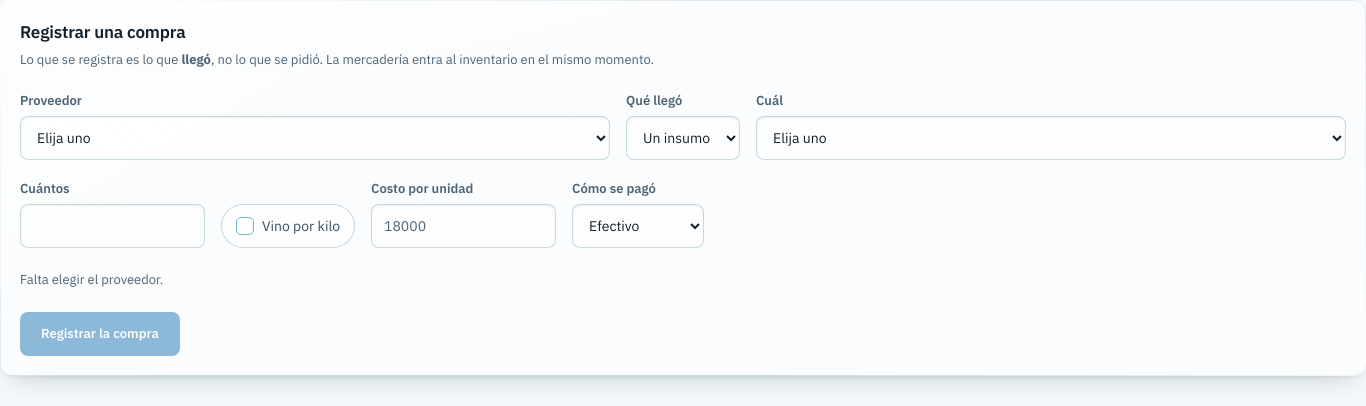
it: RegistrarCompra — una línea compra una sola cosa › cambiar qué se compró destilda los kilos
Click the checkbox labelled "Vino por kilo" at (288,226), box [221,204,355,248]
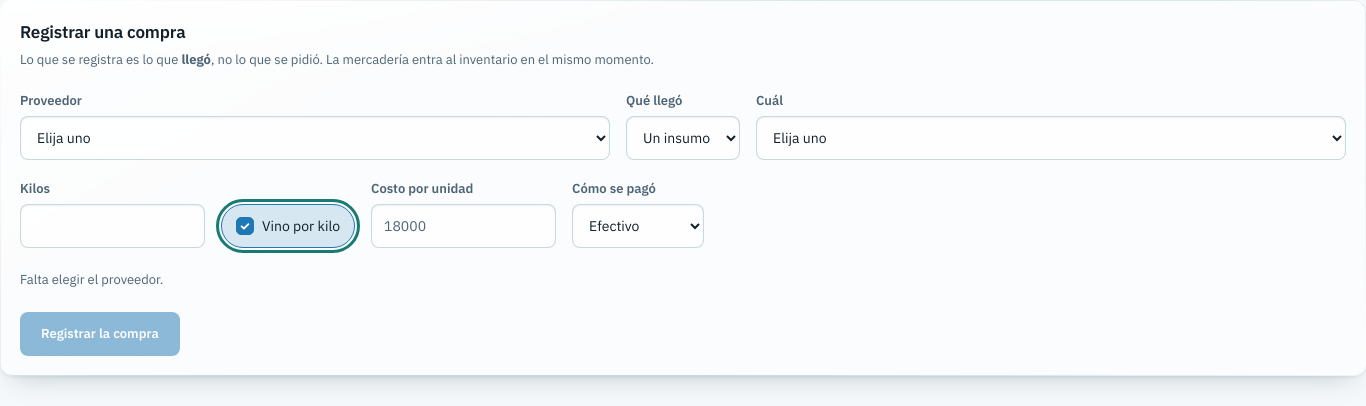
Select "Bases" in the dropdown labelled "Qué llegó" at (683,138), box [626,116,740,160]
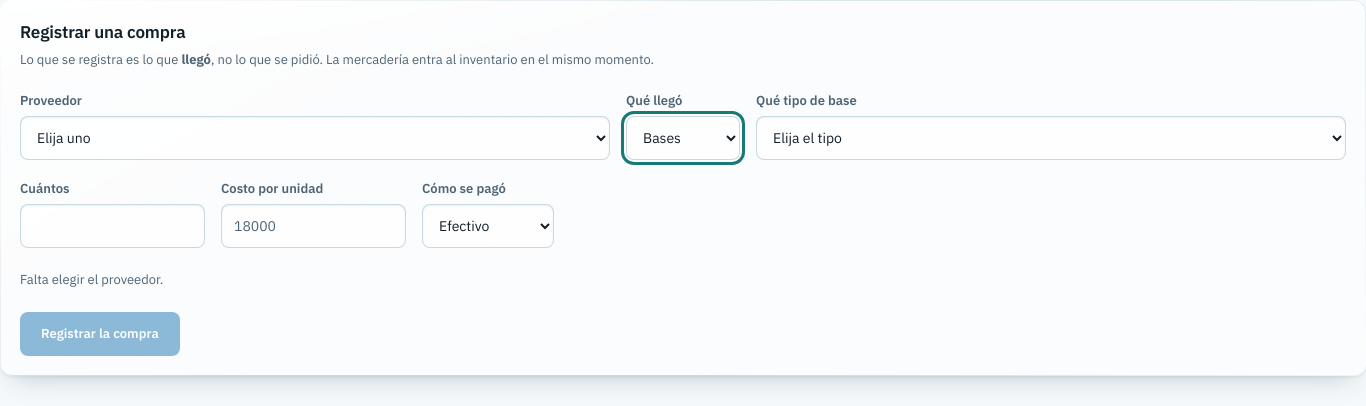
Select "Un insumo" in the dropdown labelled "Qué llegó" at (683,138), box [626,116,740,160]
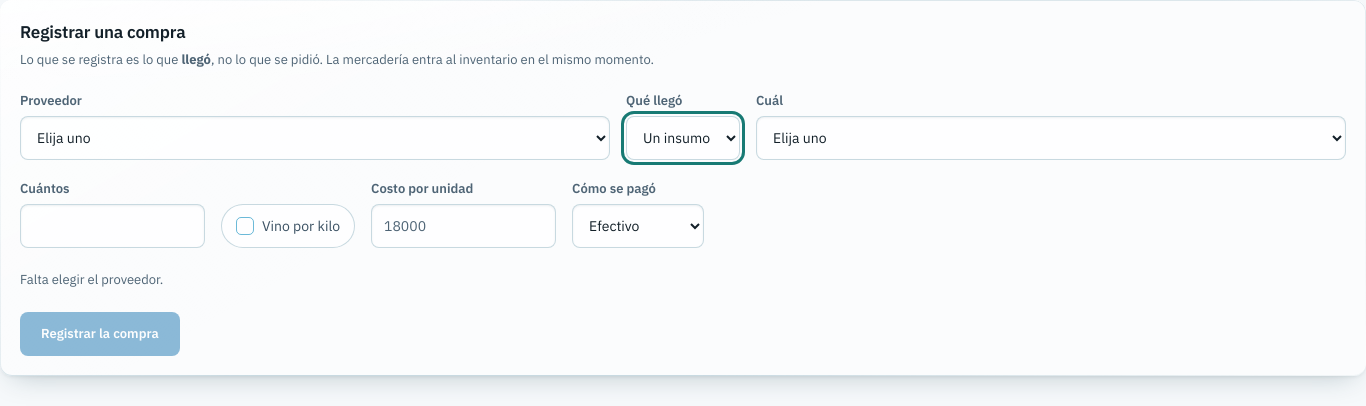
Expected: the checkbox labelled "Vino por kilo" is not checked, [221,204,355,248]
